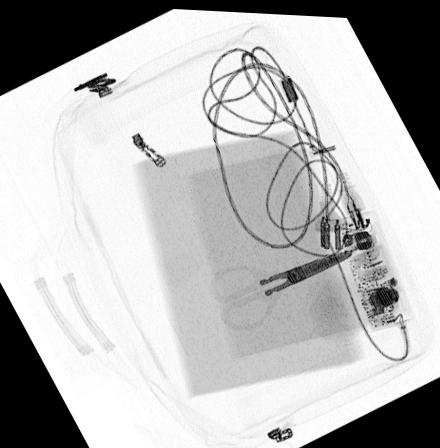Scissors: (207, 244, 354, 329)
